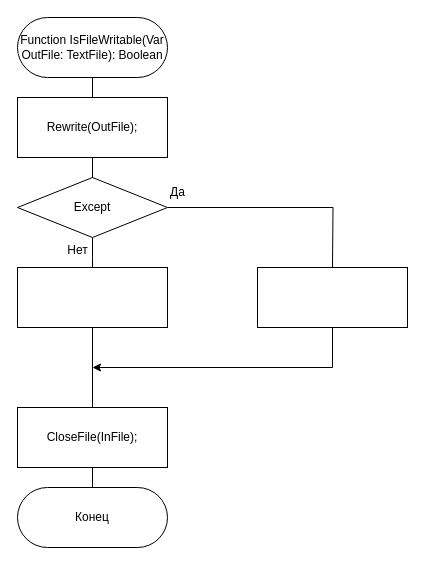
The diagram is 425 pixels wide and 565 high, and some of its shapes have lost their labels. Each missing label, with the centre of its shape:
Result := False;: point (92, 297)
Result := True;: point (332, 297)
